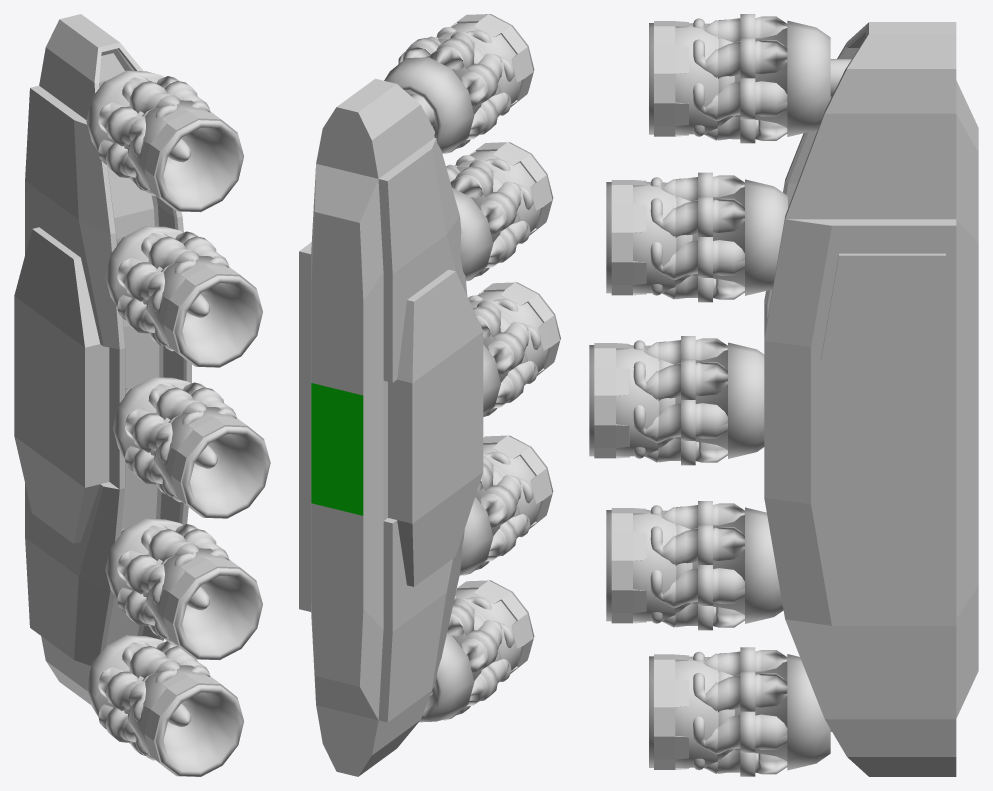
File: engine.onion.fbx
3 views of the same model, side by side, from view 1: azimuth 30°, elevation 25°; view 2: azimuth 150°, elevation 25°; view 3: azimuth 270°, elevation 25° (orthographic). The views are drawn at different scales.
Parts seen in each view (by area): view 1: engine.onion; view 2: engine.onion; view 3: engine.onion.
Part boxes in pixels (x1,y1,x2,y2): engine.onion: [14, 14, 270, 776]; engine.onion: [299, 14, 560, 776]; engine.onion: [589, 14, 978, 776].
Size of the model in its own units: 1.7 by 9.68 by 4.55.
